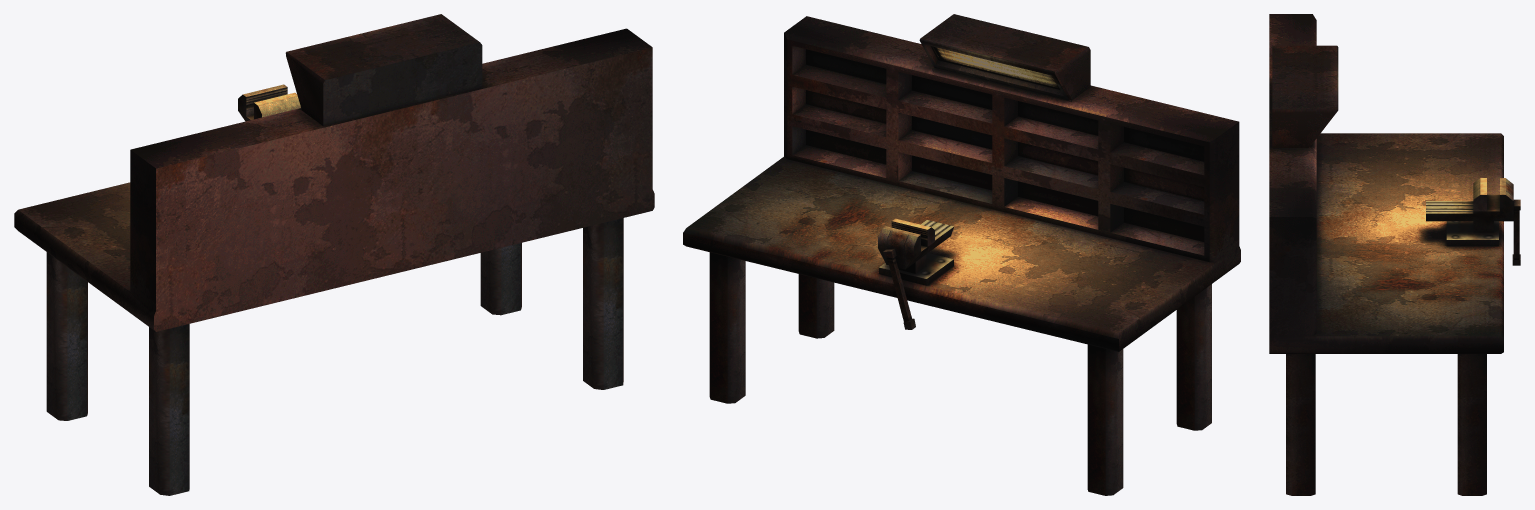
The model's file is BANK.obj.
The picture shows the model from 3 angles, left to right: view 1: azimuth 30°, elevation 25°; view 2: azimuth 150°, elevation 25°; view 3: azimuth 270°, elevation 25°; orthographic projection. The views are drawn at different scales.
Visible parts, largest first — view 1: Group; view 2: Group; view 3: Group.
Boxes of the visible parts, x1,y1,x2,y2 form: Group: (14,14,654,495); Group: (683,14,1240,495); Group: (1269,14,1520,495).
Bounding box in the file's own units: 107 × 78.57 × 55.33.
Materials: 1 (1 with a texture image).
